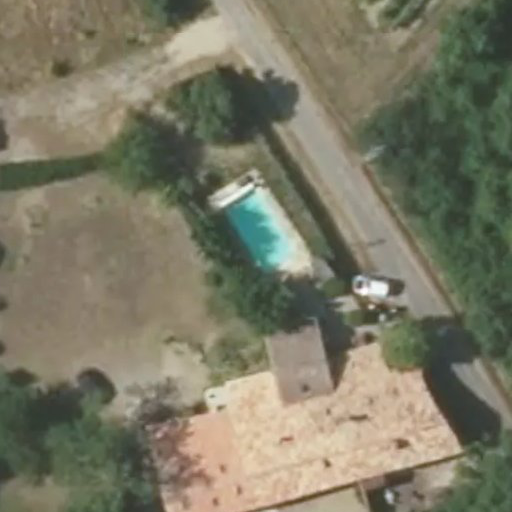pool: (217, 217, 293, 266)
